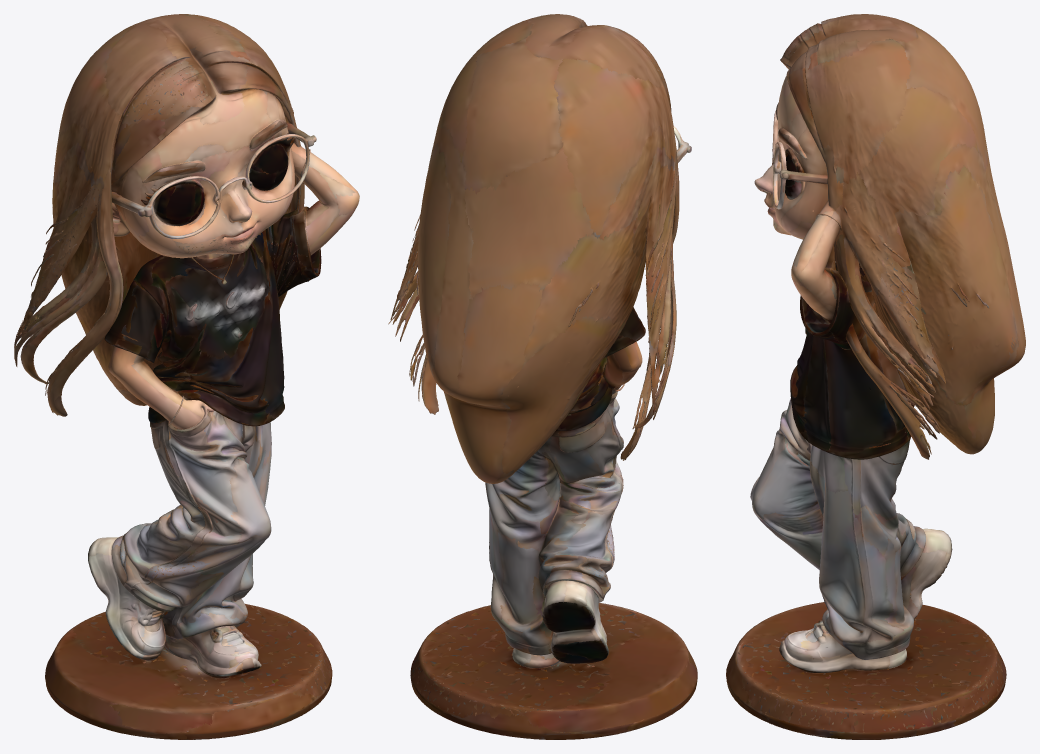
The picture shows the model from 3 angles, left to right: view 1: azimuth 30°, elevation 25°; view 2: azimuth 150°, elevation 25°; view 3: azimuth 270°, elevation 25°; orthographic projection.
Size of the model in its own units: 0.4913 by 1.11 by 0.4637.
1 material, 1 textured.
